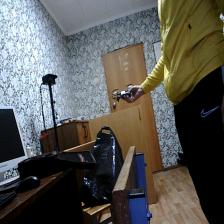drone: (110, 84, 136, 104)
